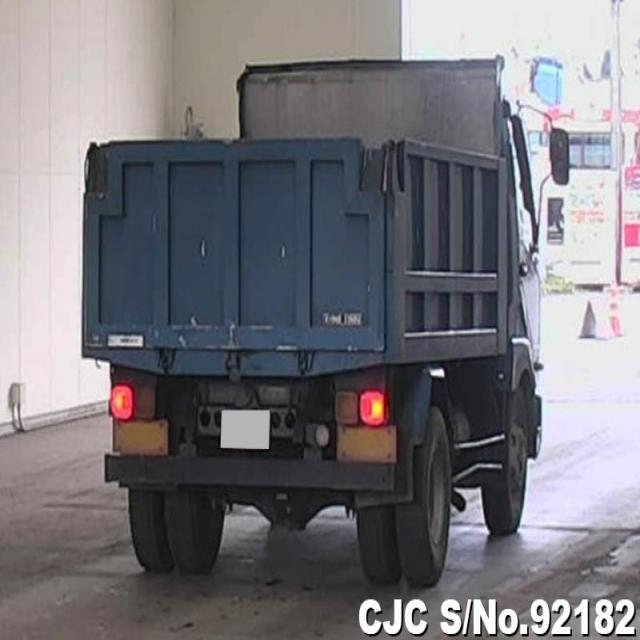Truck: (84, 49, 569, 587)
